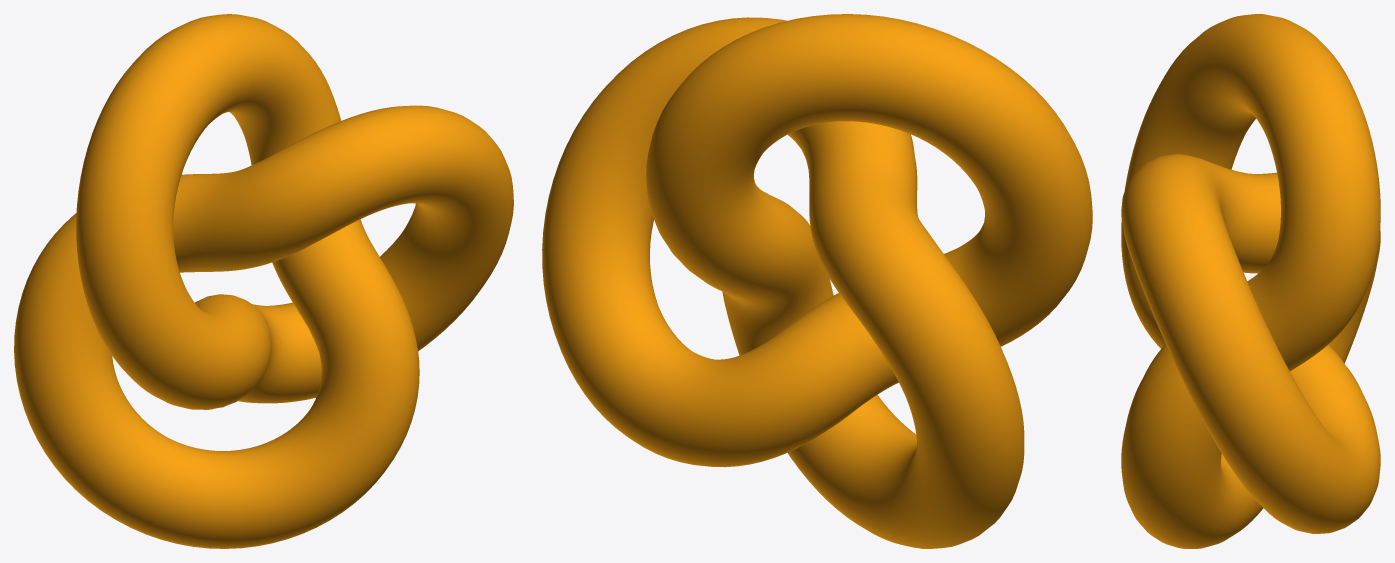
File: knot.glb
3 renders of one model, left to right at view 1: azimuth 30°, elevation 25°; view 2: azimuth 150°, elevation 25°; view 3: azimuth 270°, elevation 25°, orthographic. The views are drawn at different scales.
Visible parts, largest first — view 1: Knot; view 2: Knot; view 3: Knot.
Boxes of the visible parts, x1,y1,x2,y2 form: Knot: (14,14,513,548); Knot: (542,14,1092,548); Knot: (1121,14,1380,548).
Bounding box in the file's own units: 1.06 × 1.1 × 0.5199.
